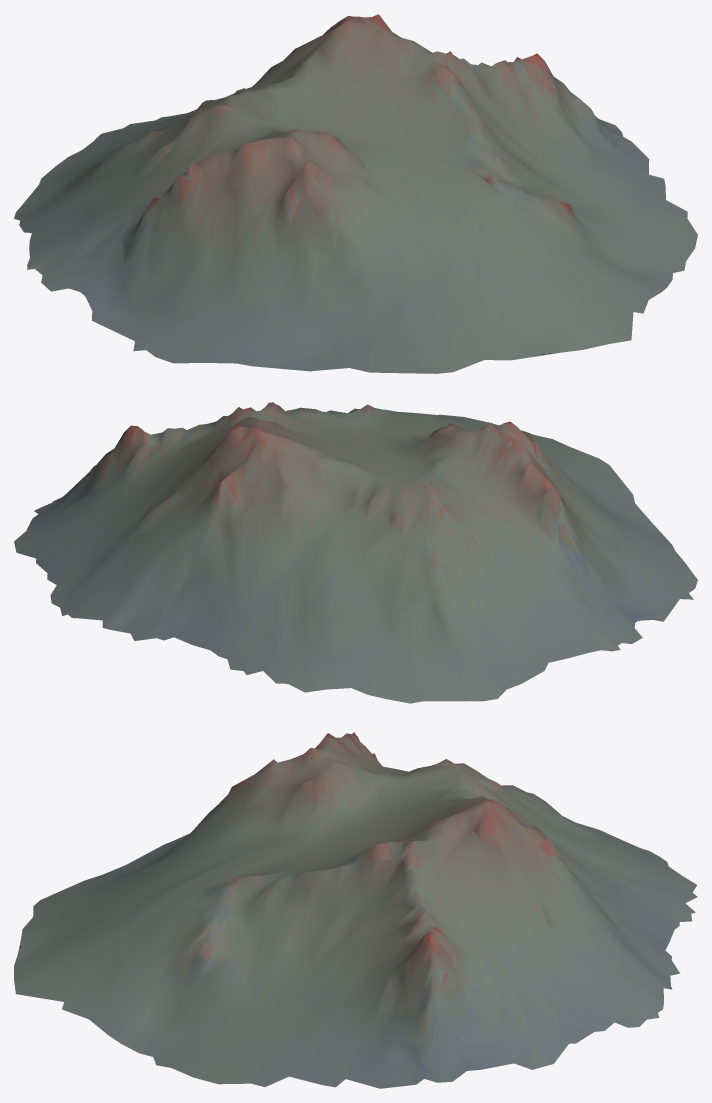
Rendered from mountain_background_02.fbx.
The picture shows the model from 3 angles, top to bottom: view 1: azimuth 30°, elevation 25°; view 2: azimuth 150°, elevation 25°; view 3: azimuth 270°, elevation 25°; orthographic projection. The views are drawn at different scales.
Parts seen in each view (by area): view 1: Mesh; view 2: Mesh; view 3: Mesh.
Boxes of the visible parts, x1=… form: Mesh: x1=14, y1=14, x2=697, y2=373; Mesh: x1=14, y1=402, x2=697, y2=703; Mesh: x1=14, y1=732, x2=697, y2=1088.
Size of the model in its own units: 489 by 139 by 479.
